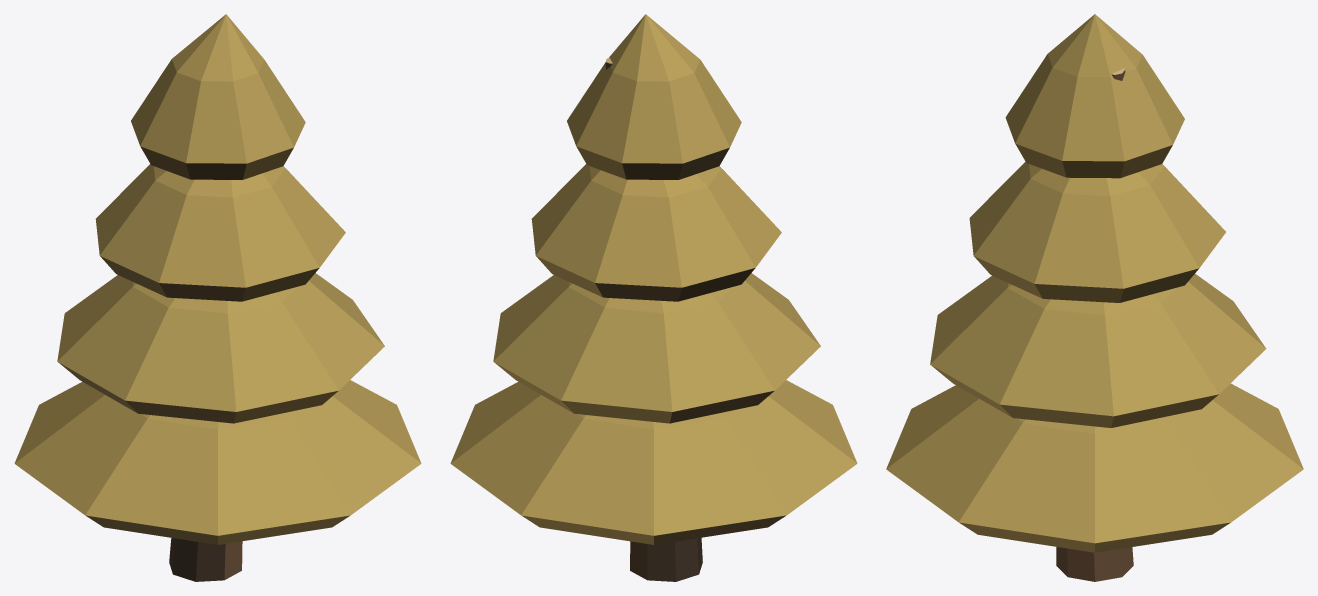
File: TW_TREE_TIERED_WIDE_B_LOD0.glb
3 renders of one model, left to right at view 1: azimuth 30°, elevation 25°; view 2: azimuth 150°, elevation 25°; view 3: azimuth 270°, elevation 25°, orthographic. The views are drawn at different scales.
Parts seen in each view (by area): view 1: TW_TREE_TIERED_WIDE_B_LOD0; view 2: TW_TREE_TIERED_WIDE_B_LOD0; view 3: TW_TREE_TIERED_WIDE_B_LOD0.
Boxes of the visible parts, left/top/right/bottom form: TW_TREE_TIERED_WIDE_B_LOD0: left=14, top=14, right=421, bottom=581; TW_TREE_TIERED_WIDE_B_LOD0: left=450, top=14, right=857, bottom=581; TW_TREE_TIERED_WIDE_B_LOD0: left=886, top=14, right=1303, bottom=581.
Size of the model in its own units: 2.52 by 3.8 by 2.56.
1 material, 1 textured.
